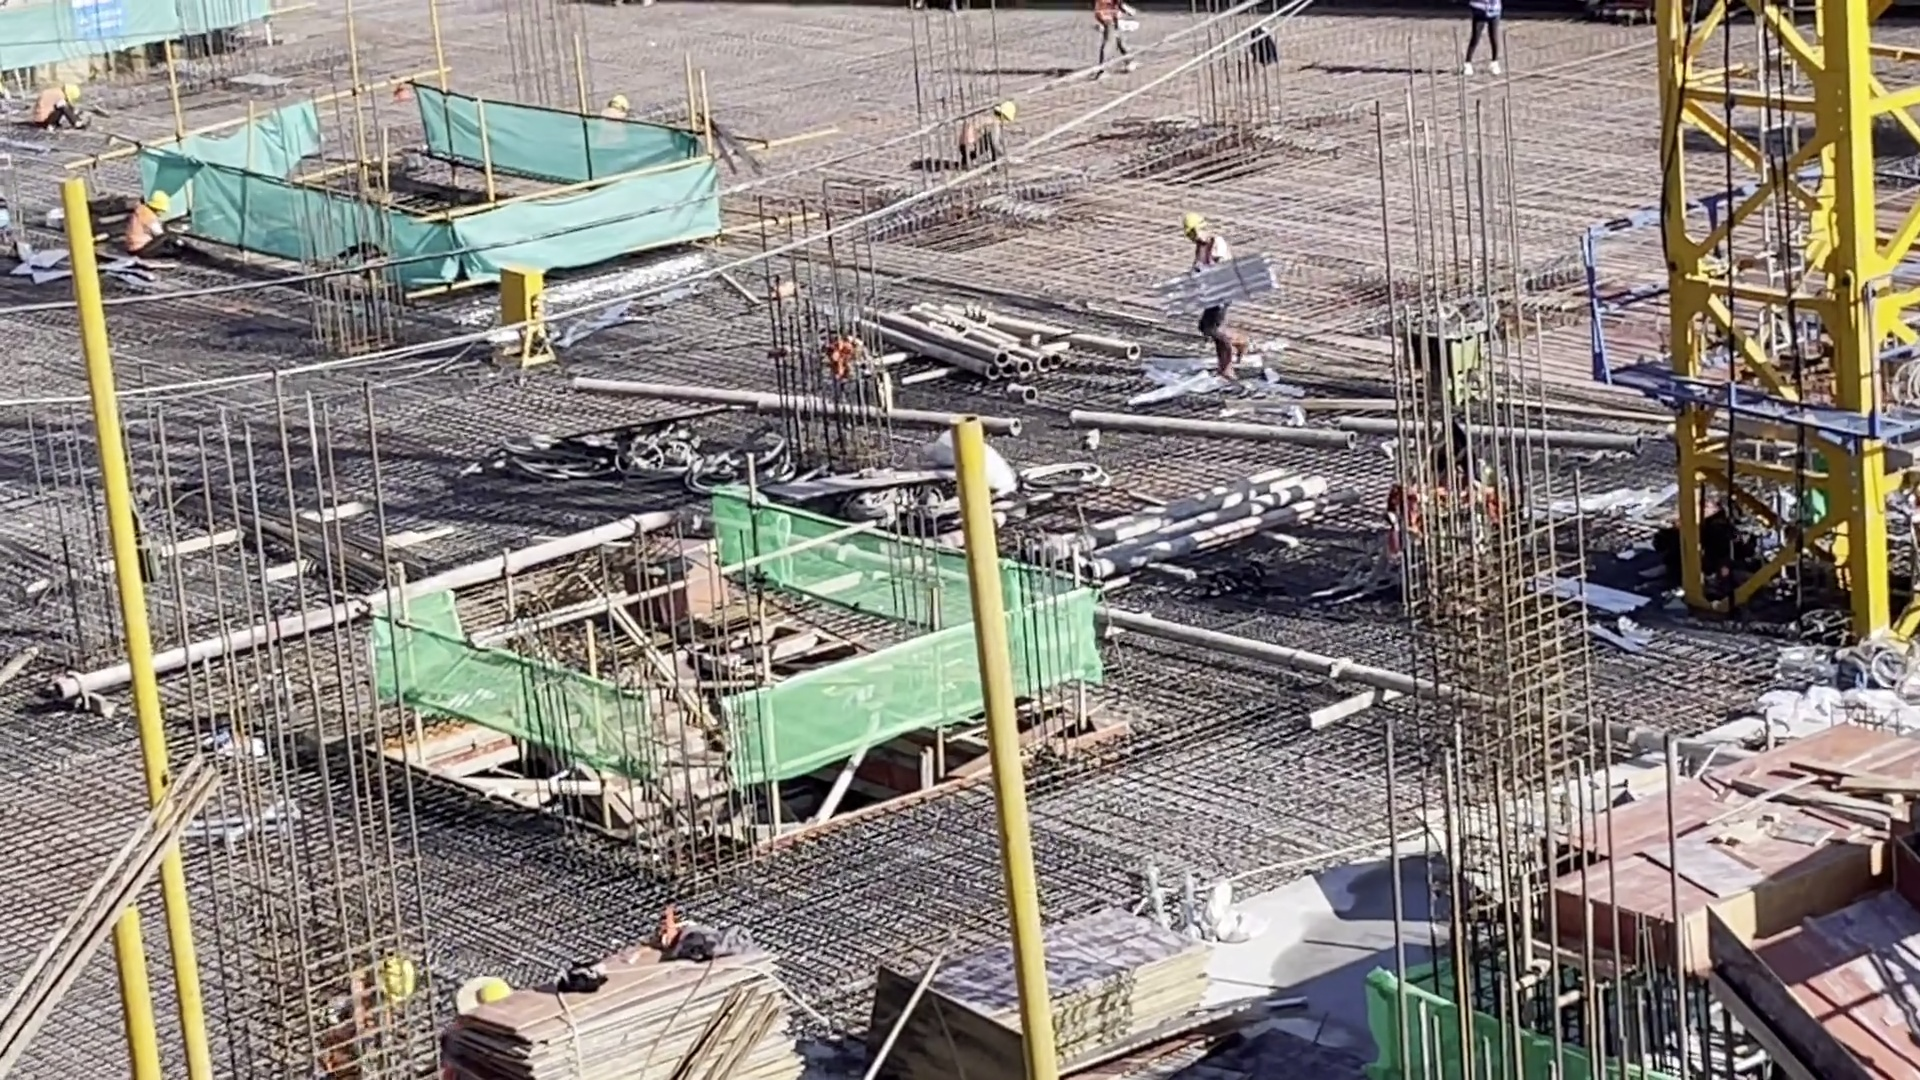helmet: (463, 974, 520, 1017), (379, 957, 421, 1001), (139, 183, 176, 216), (1177, 211, 1212, 238), (994, 94, 1020, 125), (60, 78, 87, 107), (605, 93, 634, 113)
person: (1172, 199, 1278, 389), (308, 939, 428, 1080), (947, 84, 1023, 168), (118, 181, 192, 261), (1452, 1, 1520, 73), (1082, 1, 1147, 74), (32, 75, 95, 135), (593, 92, 644, 142)
